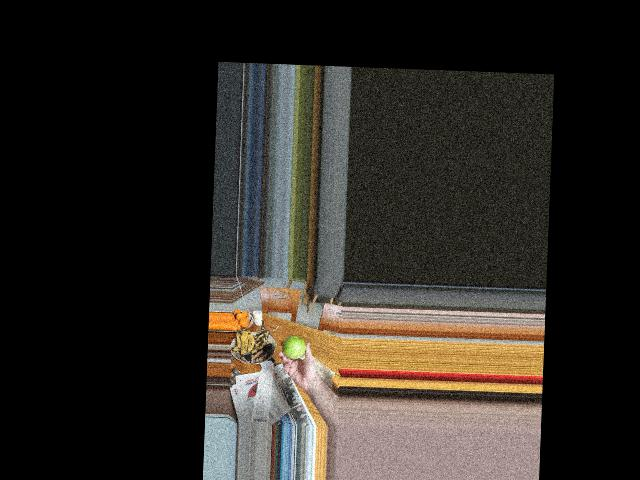apple: (280, 336, 306, 361)
